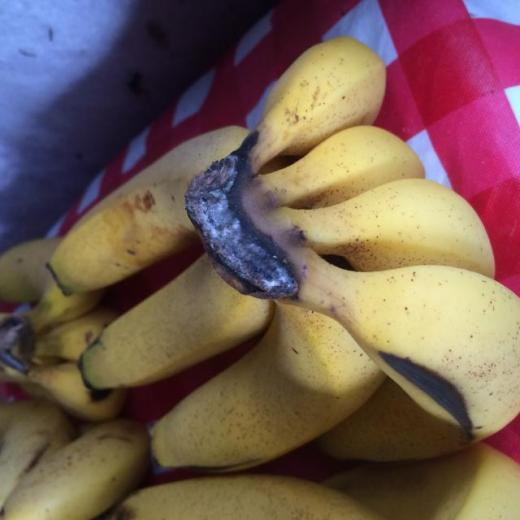Banana: (0, 35, 520, 520), (0, 417, 151, 520)
